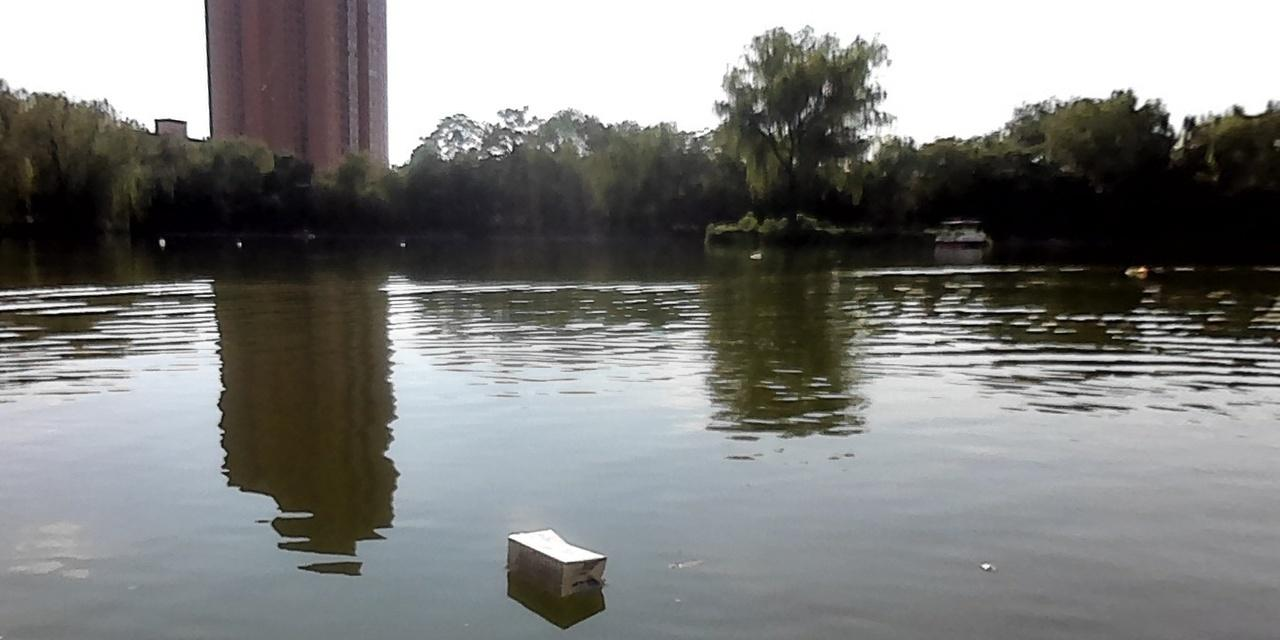bottle: (504, 527, 606, 594)
